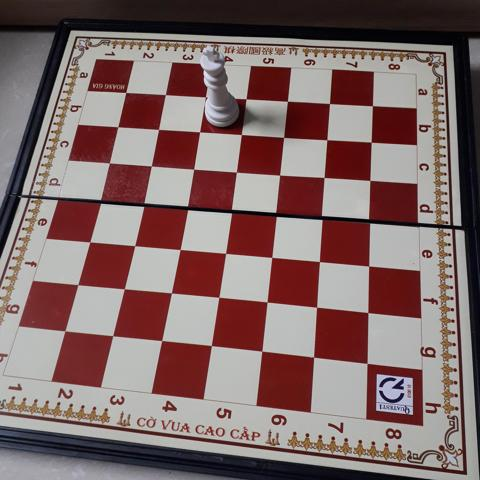xcorner: (363, 97, 381, 115), (118, 83, 136, 101), (233, 124, 251, 142), (191, 121, 209, 139), (362, 170, 380, 188), (314, 207, 332, 225), (216, 242, 234, 260), (170, 238, 188, 256), (80, 230, 98, 248), (360, 302, 378, 320), (309, 297, 327, 315), (259, 292, 277, 310), (210, 287, 228, 305), (115, 278, 133, 296), (359, 353, 377, 371), (254, 342, 272, 360), (153, 331, 171, 349), (279, 92, 296, 110), (197, 88, 215, 105), (158, 85, 175, 103), (363, 132, 380, 150), (319, 129, 336, 147), (275, 127, 293, 144), (150, 119, 168, 136), (110, 116, 127, 134), (317, 167, 334, 185), (142, 155, 160, 172), (361, 211, 379, 228), (268, 203, 285, 221), (222, 200, 240, 217), (178, 196, 195, 214), (91, 189, 108, 207), (312, 250, 329, 268), (264, 246, 281, 264), (125, 234, 142, 252), (162, 283, 180, 300), (69, 274, 87, 291), (306, 348, 324, 365), (203, 337, 221, 354), (105, 326, 122, 344), (321, 95, 338, 112), (238, 90, 255, 107), (272, 164, 289, 181), (228, 161, 245, 178), (185, 158, 202, 175), (101, 152, 118, 169), (134, 193, 151, 210), (361, 255, 378, 272), (57, 321, 74, 338)
